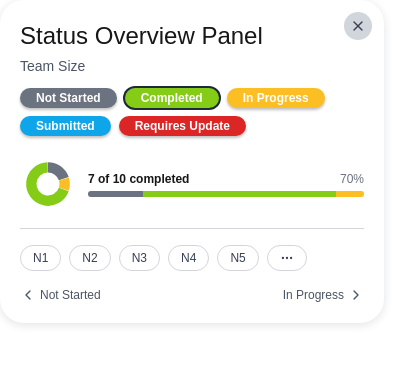
StatusOverviewPanel › lists completed NSOs by default, collapsing past five
The image size is (403, 376).
expect the text "N5" is shown: met, box [217,245,259,271]
expect the text "N6" is not shown: met
Step 1. Click the button named "Show 2 more NSOs" → click(287, 258), box [267,245,307,271]
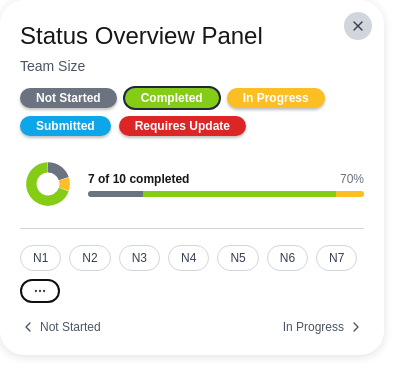
expect the text "N7" is shown: met, box [316,245,357,271]
